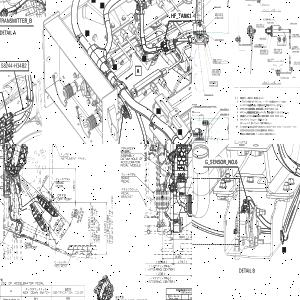PartNumber: (1, 62, 28, 69), (2, 297, 19, 300), (275, 111, 285, 114), (240, 129, 250, 132), (253, 125, 262, 128), (250, 129, 259, 132), (264, 108, 274, 110), (266, 126, 276, 128), (277, 126, 287, 128), (270, 115, 279, 117), (243, 126, 252, 128), (287, 126, 296, 128), (204, 94, 212, 96), (220, 108, 227, 110), (212, 72, 219, 74), (212, 70, 219, 72), (212, 68, 219, 70), (213, 58, 220, 60), (214, 6, 221, 8), (256, 24, 263, 26), (267, 58, 274, 60), (210, 80, 216, 82), (215, 13, 221, 15), (260, 51, 266, 53), (260, 49, 266, 51), (274, 50, 280, 52), (192, 103, 197, 105), (220, 114, 228, 115), (292, 34, 300, 35), (292, 51, 300, 52), (209, 83, 216, 84), (215, 39, 222, 40), (267, 22, 274, 23), (290, 23, 297, 24), (293, 61, 300, 62), (215, 15, 221, 16), (260, 38, 266, 39), (274, 49, 280, 50)
